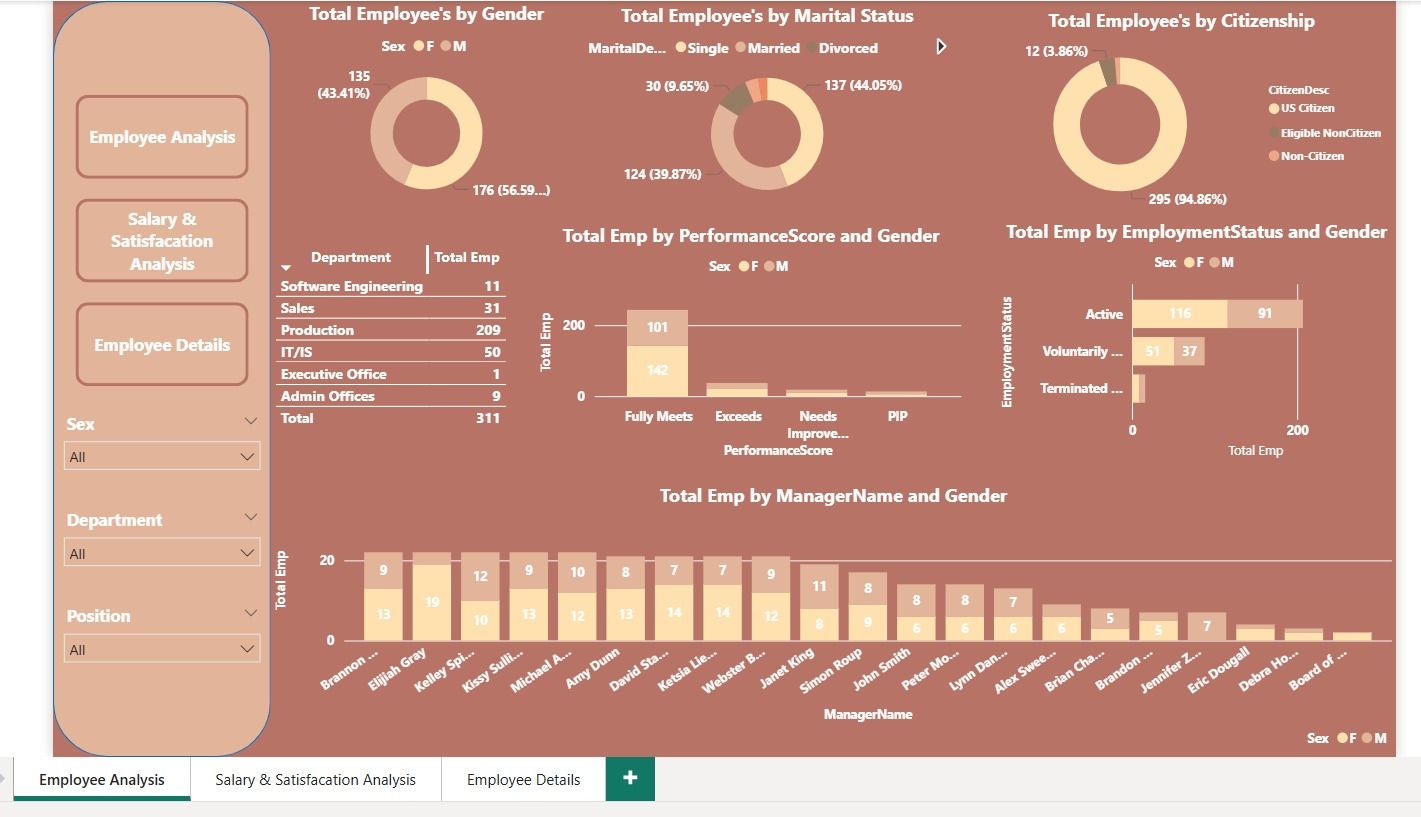

The dashboard page shown, as its layout file describes it:
{"tool":"powerbi","page":{"name":"Employee Analysis","canvas":[1280,720],"ordinal":0},"visuals":[{"type":"shape","box":[0,0,207.5,720],"z":0},{"type":"actionButton","box":[21.2,88.8,165,80],"z":1000},{"type":"actionButton","box":[21.2,187.8,165,80],"z":2000},{"type":"actionButton","box":[21.2,286.8,165,80],"z":3000},{"type":"slicer","fields":{"Values":["HRDataset_v14.Department"]},"box":[0,477.2,207.5,72.5],"z":4000},{"type":"slicer","fields":{"Values":["HRDataset_v14.Position"]},"box":[0,568.8,207.5,75],"z":5000},{"type":"slicer","fields":{"Values":["HRDataset_v14.Sex"]},"box":[0,385.8,207.5,72.5],"z":6000},{"type":"donutChart","title":"Total Employee''s by Gender               ","fields":{"Y":["HRDataset_v14.Total Employee's"],"Category":["HRDataset_v14.Sex"]},"box":[207.5,0,297.5,200],"z":7000},{"type":"donutChart","title":"Total Employee''s by Marital Status               ","fields":{"Y":["HRDataset_v14.Total Employee's"],"Category":["HRDataset_v14.MaritalDesc"]},"box":[504.8,1.2,351.2,198.8],"z":8000},{"type":"donutChart","title":"Total Employee''s by Citizenship             ","fields":{"Y":["HRDataset_v14.Total Employee's"],"Category":["HRDataset_v14.CitizenDesc"]},"box":[870.2,6,409.5,201.2],"z":9000},{"type":"columnChart","title":"Total Emp by ManagerName and Gender","fields":{"Category":["HRDataset_v14.ManagerName"],"Y":["HRDataset_v14.Total Employee's"],"Series":["HRDataset_v14.Sex"]},"box":[207.1,458.3,1072.6,261.9],"z":10000},{"type":"barChart","title":"Total Emp by EmploymentStatus and Gender","fields":{"Y":["HRDataset_v14.Total Employee's"],"Category":["HRDataset_v14.EmploymentStatus"],"Series":["HRDataset_v14.Sex"]},"box":[898.8,207.1,381,233.3],"z":11000},{"type":"columnChart","title":"Total Emp by PerformanceScore and Gender","fields":{"Y":["HRDataset_v14.Total Employee's"],"Category":["HRDataset_v14.PerformanceScore"],"Series":["HRDataset_v14.Sex"]},"box":[459.5,210.7,410.7,229.8],"z":12000},{"type":"pivotTable","fields":{"Values":["HRDataset_v14.Total Employee's"],"Rows":["HRDataset_v14.Department"]},"box":[207.1,227.4,265.5,231],"z":13000}]}

Visuals, with their boxes on the page's 1280x720 design canvas (x1, y1, x2, y2). These are canvas units, not pixel positions in the 1421x817 screenshot, which may show the page scaled, cropped or inside an application window:
shape: 0/0/208/720
actionButton: 21/89/186/169
actionButton: 21/188/186/268
actionButton: 21/287/186/367
slicer - HRDataset_v14.Department: 0/477/208/550
slicer - HRDataset_v14.Position: 0/569/208/644
slicer - HRDataset_v14.Sex: 0/386/208/458
"Total Employee''s by Gender               " donutChart: 208/0/505/200
"Total Employee''s by Marital Status               " donutChart: 505/1/856/200
"Total Employee''s by Citizenship             " donutChart: 870/6/1280/207
"Total Emp by ManagerName and Gender" columnChart: 207/458/1280/720
"Total Emp by EmploymentStatus and Gender" barChart: 899/207/1280/440
"Total Emp by PerformanceScore and Gender" columnChart: 460/211/870/440
pivotTable - HRDataset_v14.Total Employee's x HRDataset_v14.Department: 207/227/473/458
